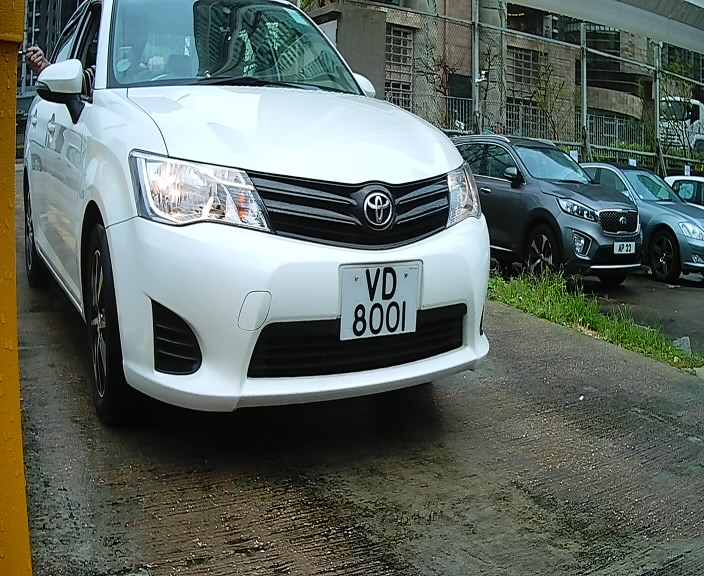Car: (29, 2, 507, 434)
License Plate: (332, 253, 429, 353)
